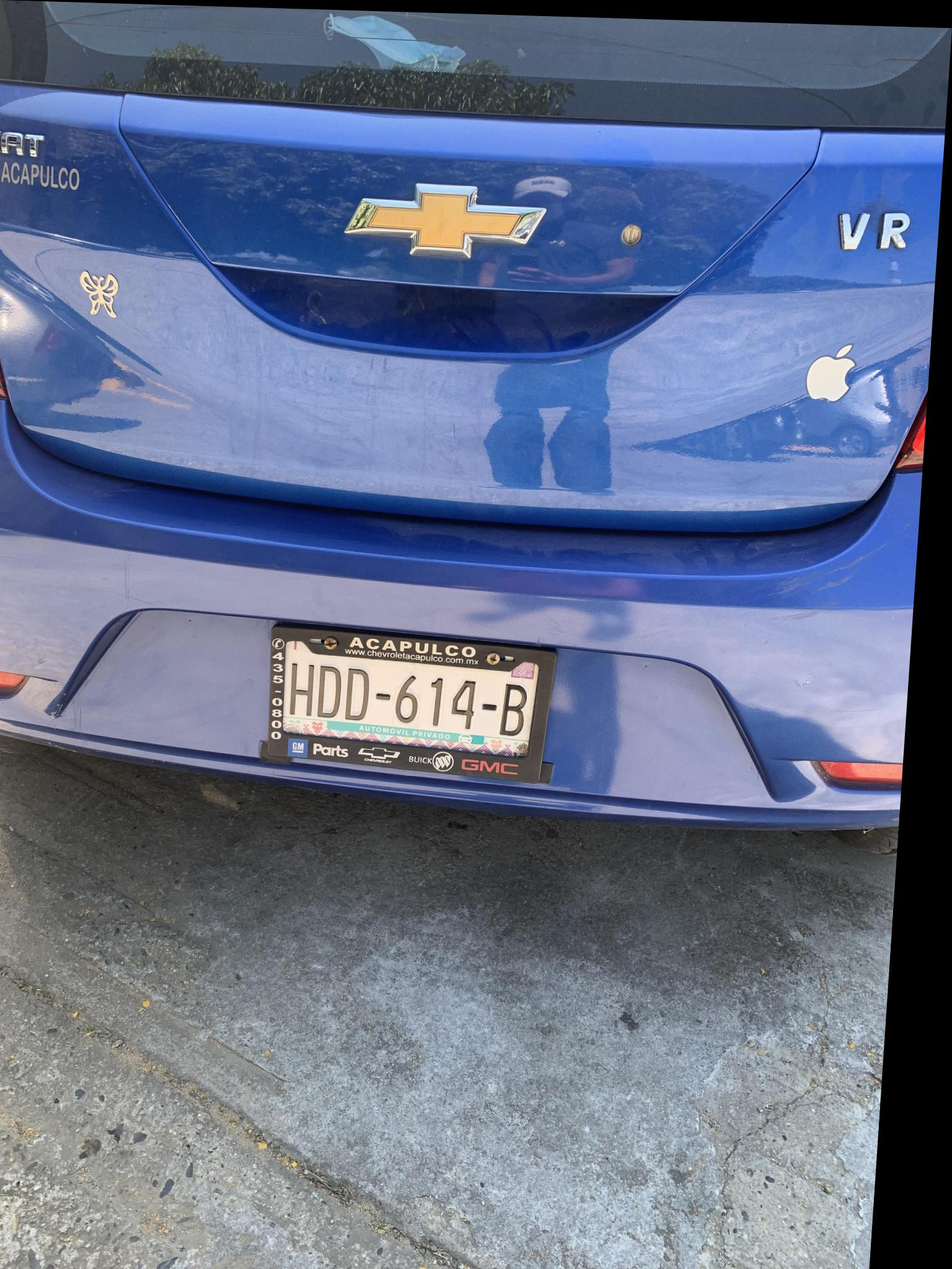License_Plate: (229, 603, 603, 815)
